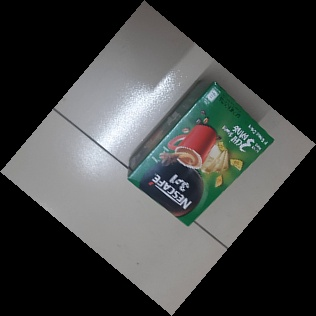Nes Rang: (126, 81, 275, 230)
